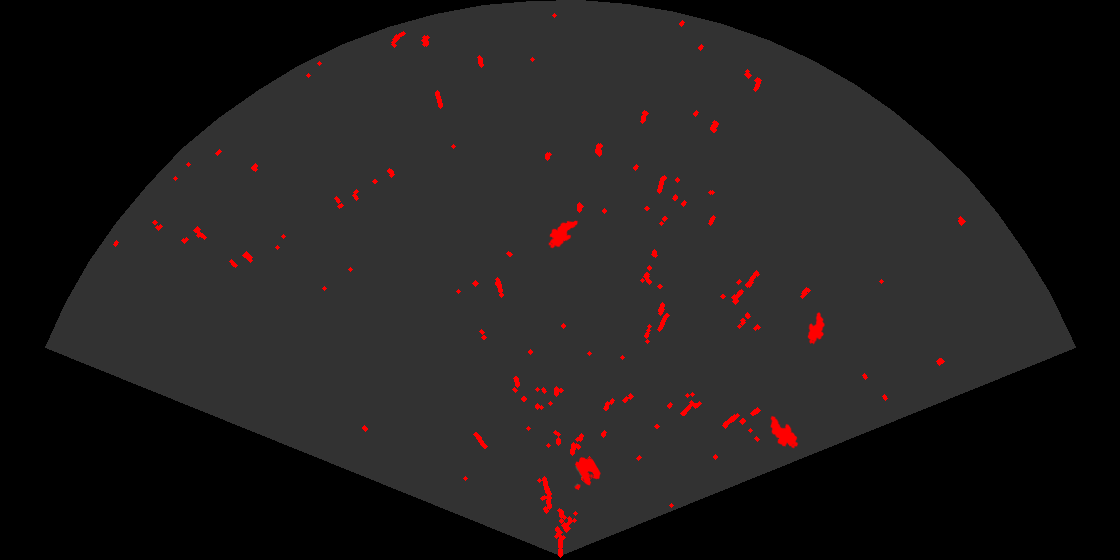AUV: (769, 414, 800, 450), (547, 219, 580, 250), (806, 310, 826, 346)
ball: (573, 456, 602, 492)
